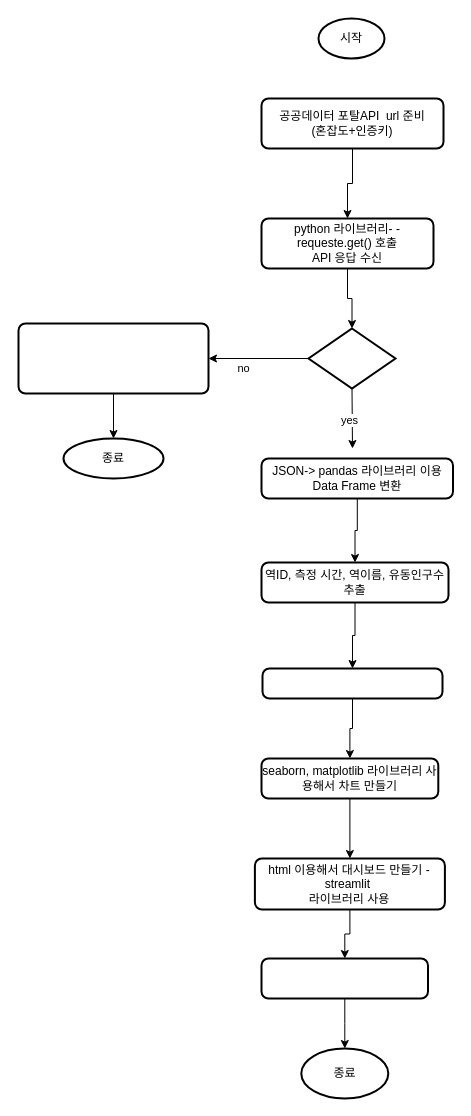
This 471x1116 diagram has some shape labels left out. The centre of each missing label's shape, as x and y in pixels:
"분석결과를 pdf 로 내보내기 -라이브러리 사용" goes at point 344,978.
"오류메세지 출력 - 파이썬 예외 처리 이용 (try ~ excep) 재시도 안내" goes at point 113,358.
"응답 상태 200 ok?" goes at point 351,358.
"전처리 작업 - 결측치 처리, 이상치 삭제" goes at point 352,683.
